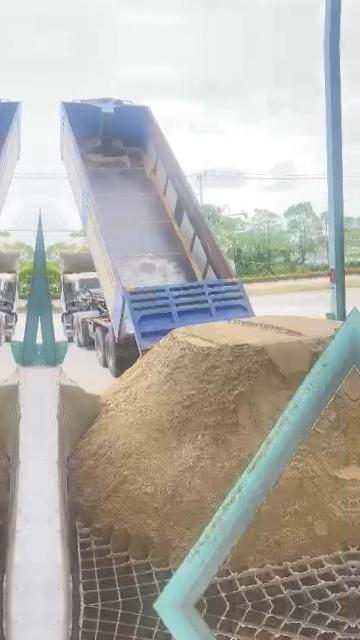sand: (71, 317, 338, 562), (230, 372, 355, 568), (58, 370, 101, 460)
